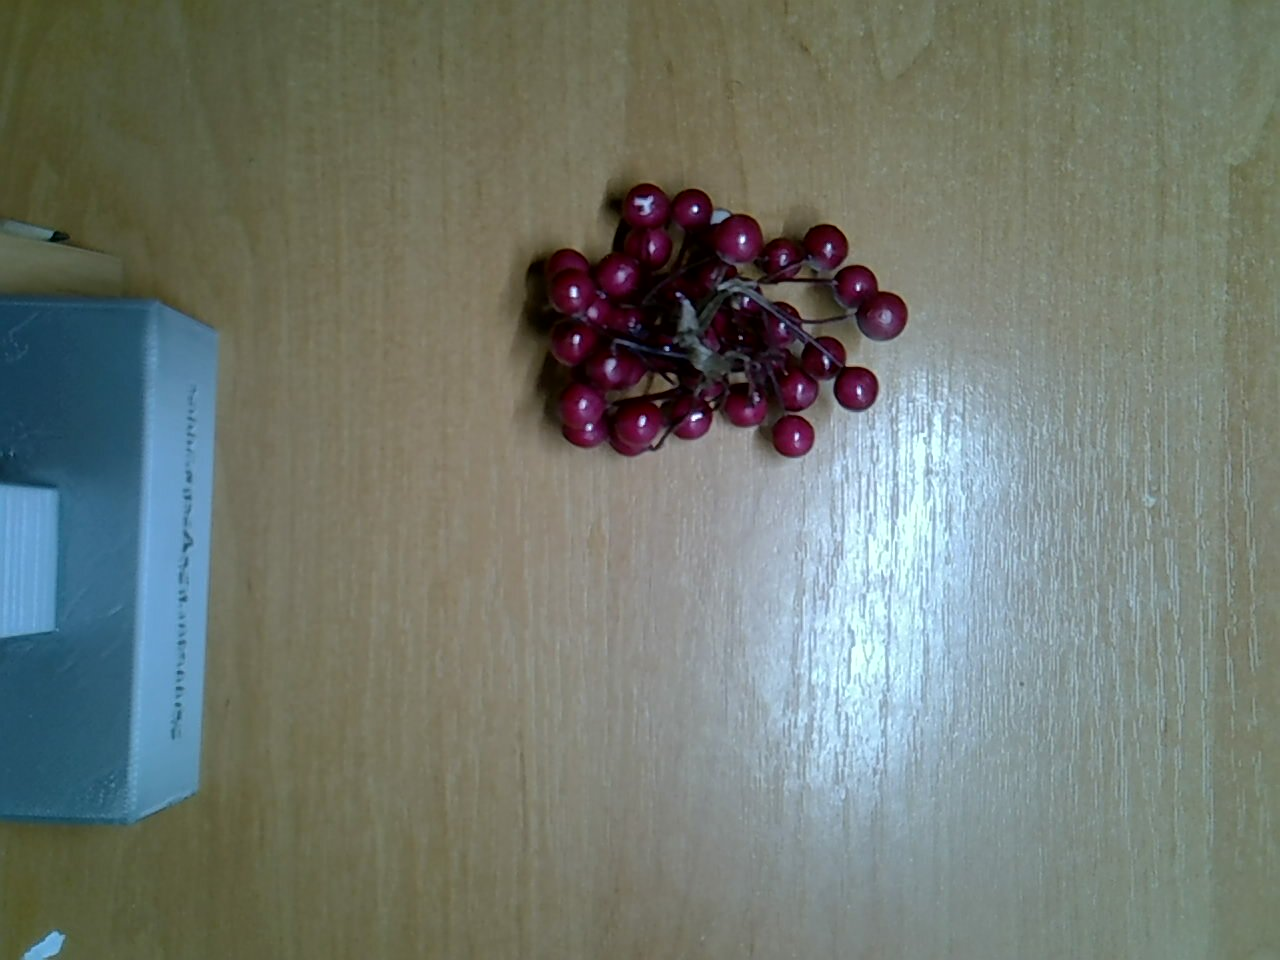berries: (512, 168, 917, 480)
